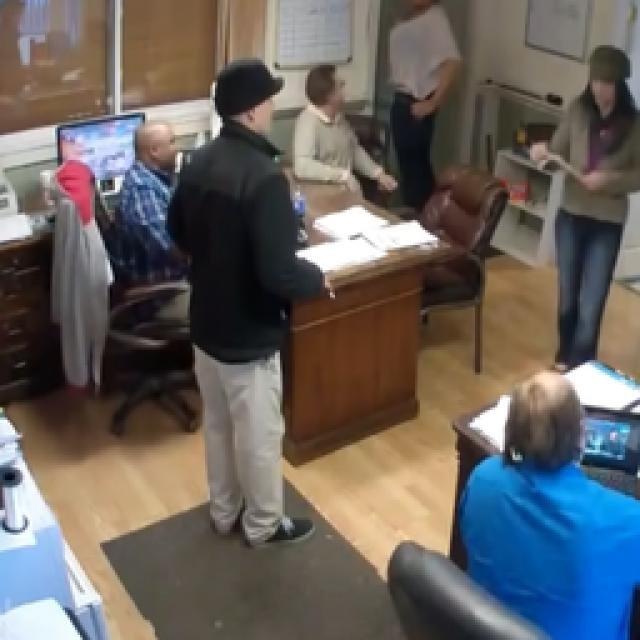person: (168, 60, 328, 542), (462, 370, 635, 635), (528, 48, 635, 368), (390, 0, 460, 208), (290, 62, 395, 190), (102, 120, 182, 280), (155, 288, 188, 315)
